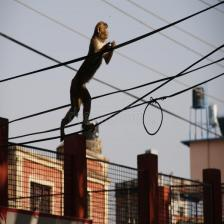monkey: (61, 13, 115, 141)
